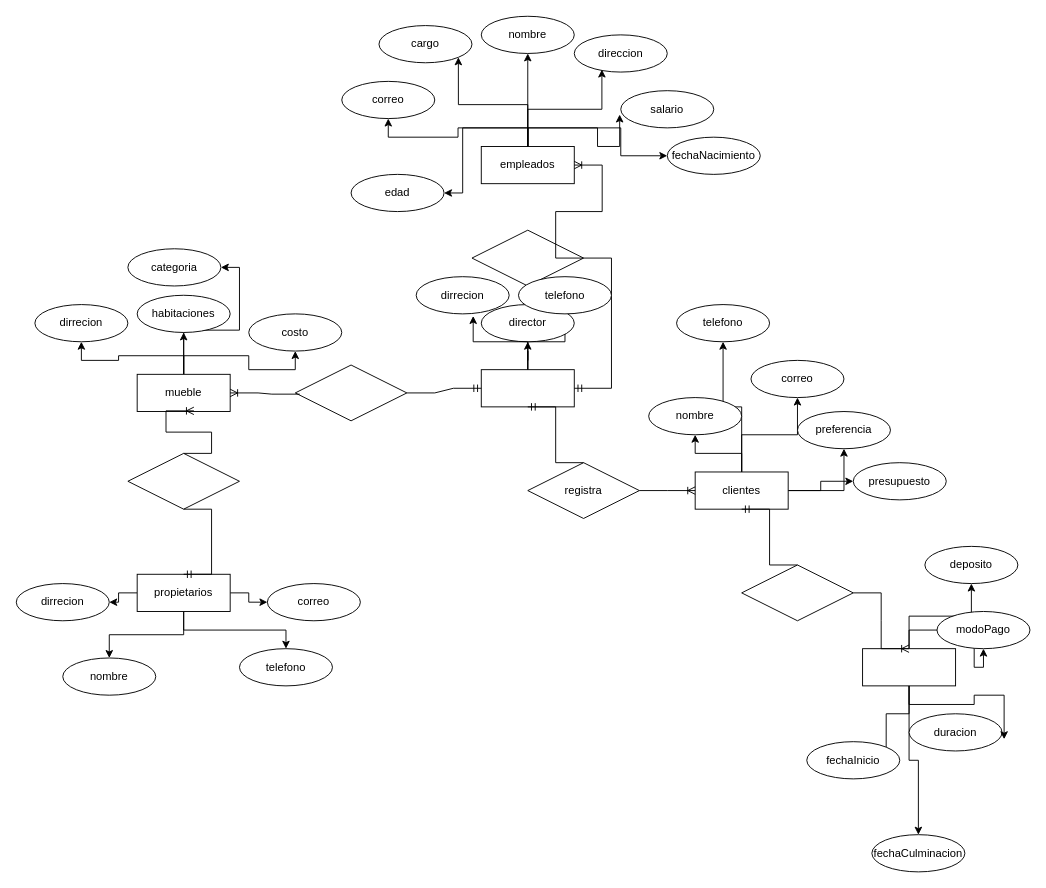
Some shapes in this 1046 by 888 pixel diagram are drawn without their labels. Each missing label, with the centre of its shape:
contratos: (909,667)
ofrece: (350,392)
pertenece: (183,480)
sucursal: (527,388)
tiene: (797,592)
trabajan: (527,257)
